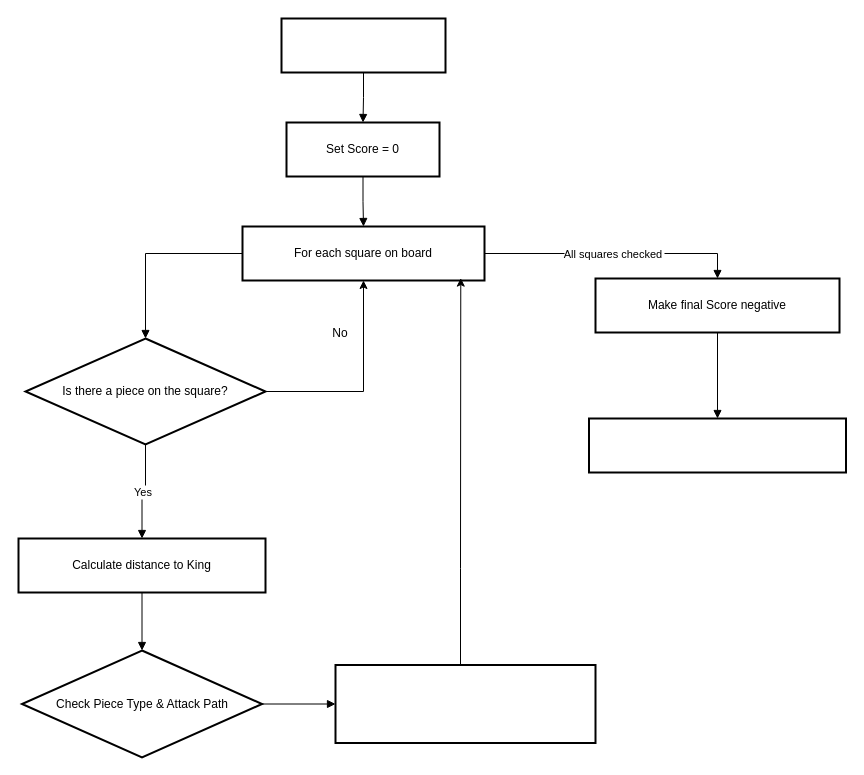
Some shapes in this 864 by 775 pixel diagram are drawn without their labels. Here are the shapes that lost their labels. From the top down, the centre of each, then its label:
At point 363,45: "Start Heuristic".
At point 717,445: "End Heuristic: Return Score".
At point 465,704: "Add points to Score based on type and distance".
